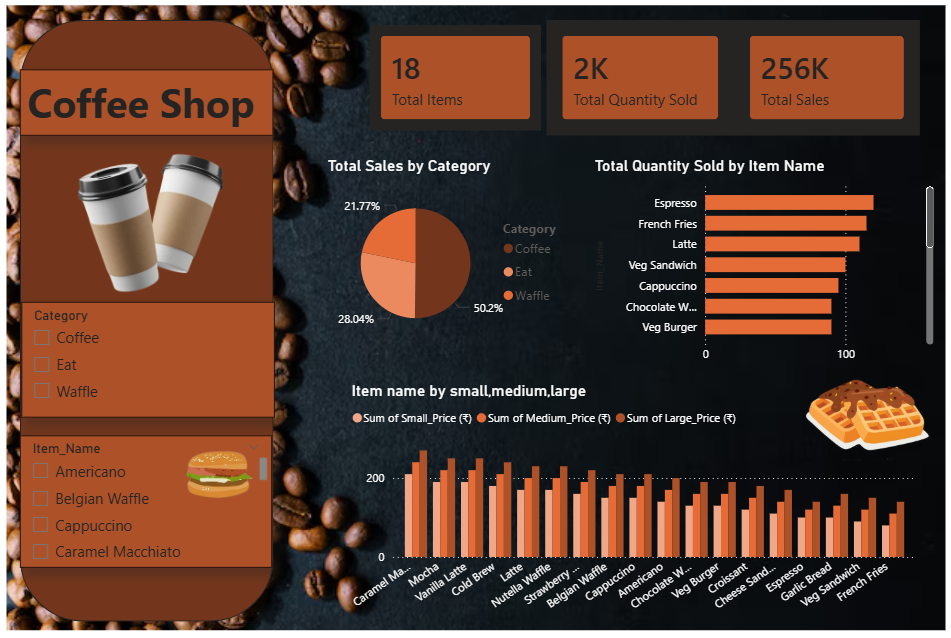

The page's visual inventory and layout, read from the dashboard file:
{"tool":"powerbi","page":{"name":"Page 1","canvas":[1280,720],"ordinal":0},"visuals":[{"type":"shape","box":[174.9,42.1,273.6,649.3],"z":0},{"type":"image","box":[115,66.4,296.3,377.3],"z":1000},{"type":"textbox","box":[174.9,95.5,273.6,71.2],"z":2000},{"type":"slicer","fields":{"Values":["Coffee Shop Data.Category"]},"box":[176.5,346.5,273.6,124.7],"z":3000},{"type":"image","box":[1013.6,399.9,152.2,140.9],"z":4000},{"type":"cardVisual","fields":{"Data":["Coffee Shop Data.Total Items"]},"box":[547.3,42.1,195.9,124.7],"z":5000},{"type":"cardVisual","fields":{"Data":["Coffee Shop Data.Total Quantity Sold"]},"box":[743.2,42.1,202.4,124.7],"z":6000},{"type":"cardVisual","fields":{"Data":["Coffee Shop Data.Total Sales"]},"box":[945.6,42.1,200.8,124.7],"z":7000},{"type":"pieChart","fields":{"Category":["Coffee Shop Data.Category"],"Y":["Coffee Shop Data.Total Sales"]},"box":[502,189.4,275.3,210.5],"z":8000},{"type":"clusteredBarChart","title":"Total Quantity Sold by Item Name","fields":{"Category":["Coffee Shop Data.Item_Name"],"Y":["Sum(Coffee Shop Data.Quantity_Sold)"]},"box":[790.2,189.4,375.7,231.5],"z":9000},{"type":"clusteredColumnChart","title":"Item name by small,medium,large","fields":{"Category":["Coffee Shop Data.Item_Name"],"Y":["Sum(Coffee Shop Data.Small_Price (₹))","Sum(Coffee Shop Data.Medium_Price (₹))","Sum(Coffee Shop Data.Large_Price (₹))"]},"box":[527.9,432.3,618.5,259.1],"z":10000},{"type":"slicer","fields":{"Values":["Coffee Shop Data.Item_Name"]},"box":[174.9,490.6,272,142.5],"z":11000},{"type":"image","box":[314.1,471.2,150.6,123.1],"z":12000}]}

Visuals, with their boxes on the page's 1280x720 design canvas (x1, y1, x2, y2). These are canvas units, not pixel positions in the 951x638 screenshot, which may show the page scaled, cropped or inside an application window:
shape: BBox(175, 42, 448, 691)
image: BBox(115, 66, 411, 444)
textbox: BBox(175, 96, 448, 167)
slicer - Coffee Shop Data.Category: BBox(176, 346, 450, 471)
image: BBox(1014, 400, 1166, 541)
cardVisual - Coffee Shop Data.Total Items: BBox(547, 42, 743, 167)
cardVisual - Coffee Shop Data.Total Quantity Sold: BBox(743, 42, 946, 167)
cardVisual - Coffee Shop Data.Total Sales: BBox(946, 42, 1146, 167)
pieChart - Coffee Shop Data.Category x Coffee Shop Data.Total Sales: BBox(502, 189, 777, 400)
"Total Quantity Sold by Item Name" clusteredBarChart: BBox(790, 189, 1166, 421)
"Item name by small,medium,large" clusteredColumnChart: BBox(528, 432, 1146, 691)
slicer - Coffee Shop Data.Item_Name: BBox(175, 491, 447, 633)
image: BBox(314, 471, 465, 594)
